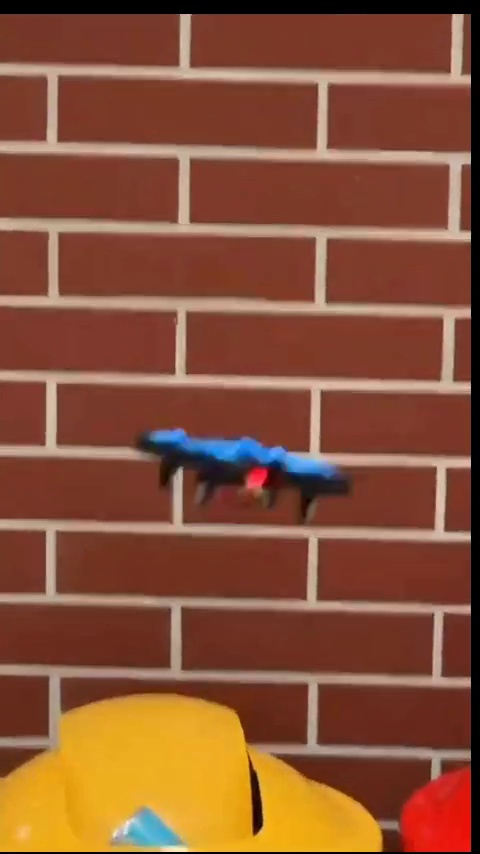drone: (138, 429, 350, 523)
